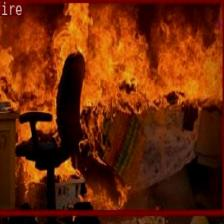fire: (0, 0, 224, 214)
